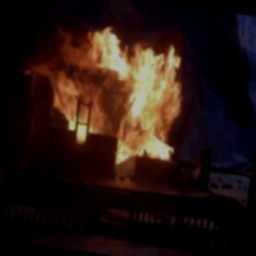fire: (28, 12, 195, 167)
